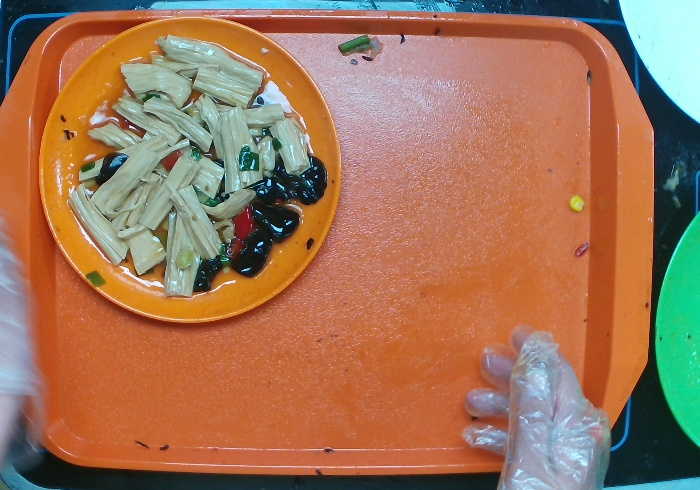HZYJPL-Ju_Huang_Yuan_Pan: (38, 12, 347, 323)
